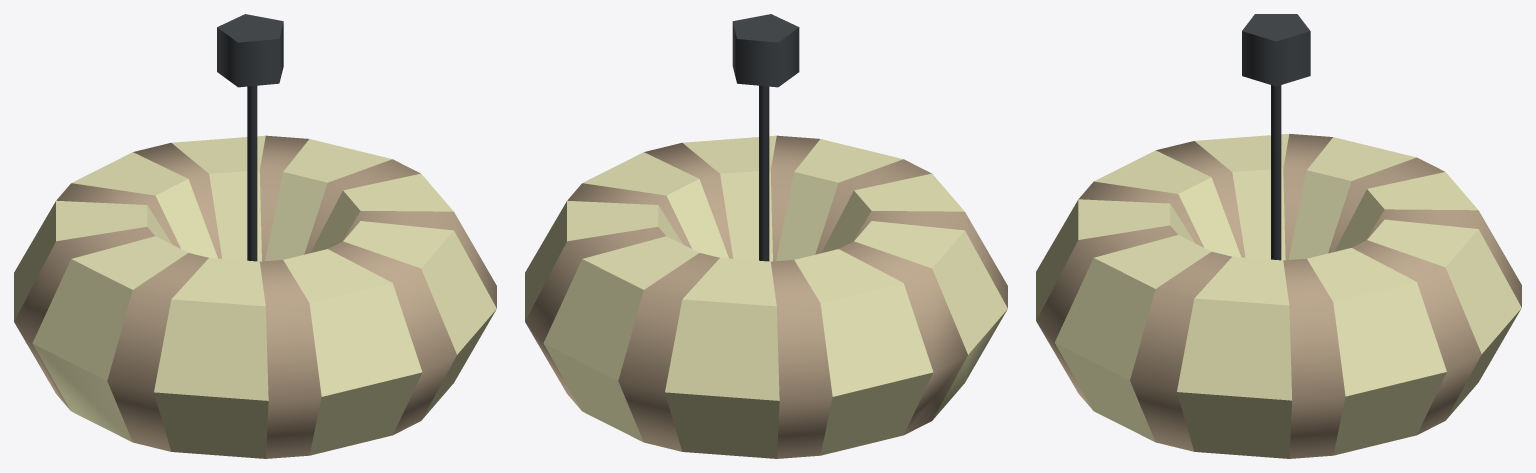
File: SM_GameArea_Light_03.fbx
3 renders of one model, left to right at view 1: azimuth 30°, elevation 25°; view 2: azimuth 150°, elevation 25°; view 3: azimuth 270°, elevation 25°, orthographic.
Parts seen in each view (by area): view 1: SM_GameArea_Light_03; view 2: SM_GameArea_Light_03; view 3: SM_GameArea_Light_03.
Boxes of the visible parts, <box> form: SM_GameArea_Light_03: <box>14,14,496,458</box>; SM_GameArea_Light_03: <box>525,14,1007,458</box>; SM_GameArea_Light_03: <box>1036,14,1521,458</box>.
Bounding box in the file's own units: 5.47 × 4.3 × 5.38.
Materials: 2 (1 with a texture image).
